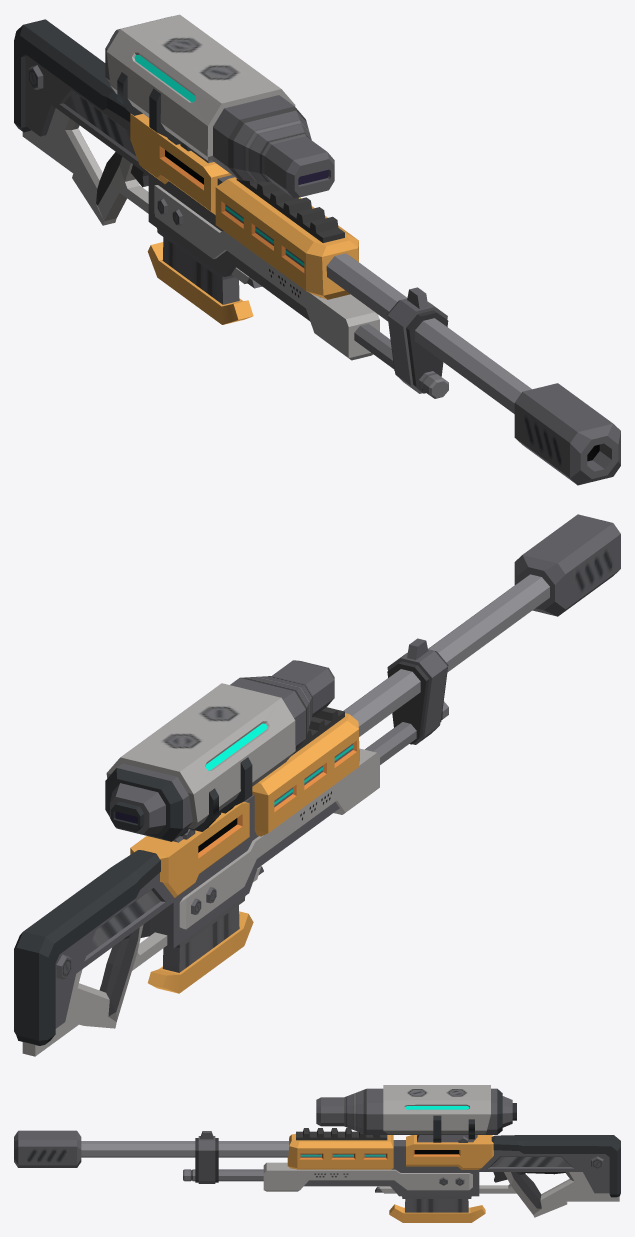
The model's file is worlds_SM_Wep_Sniper_03.gltf.
3 renders of one model, top to bottom at view 1: azimuth 30°, elevation 25°; view 2: azimuth 150°, elevation 25°; view 3: azimuth 270°, elevation 25°, orthographic. The views are drawn at different scales.
Parts seen in each view (by area): view 1: SM_Wep_Sniper_03; view 2: SM_Wep_Sniper_03; view 3: SM_Wep_Sniper_03.
Part boxes in pixels (x1,y1,x2,y2): SM_Wep_Sniper_03: [14, 14, 620, 485]; SM_Wep_Sniper_03: [14, 514, 620, 1056]; SM_Wep_Sniper_03: [14, 1085, 620, 1222].
Bounding box in the file's own units: 0.1607 × 0.3841 × 1.66.
Materials: 1 (1 with a texture image).
